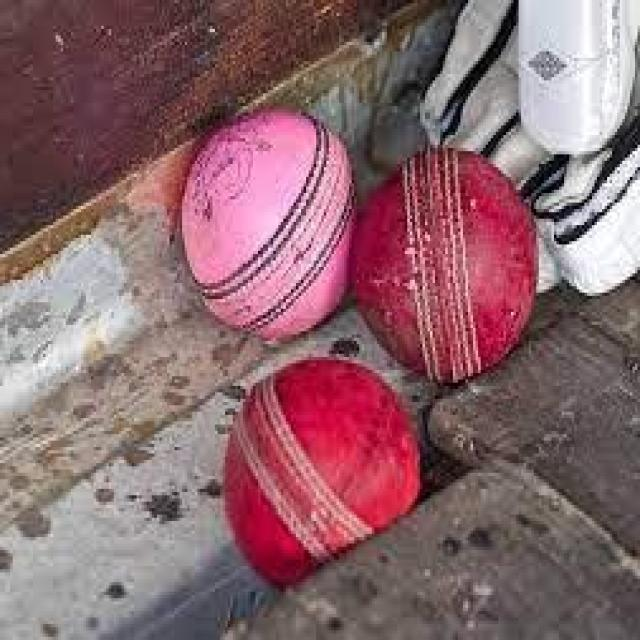ball: (220, 357, 417, 592), (357, 148, 536, 386), (177, 112, 357, 338)
